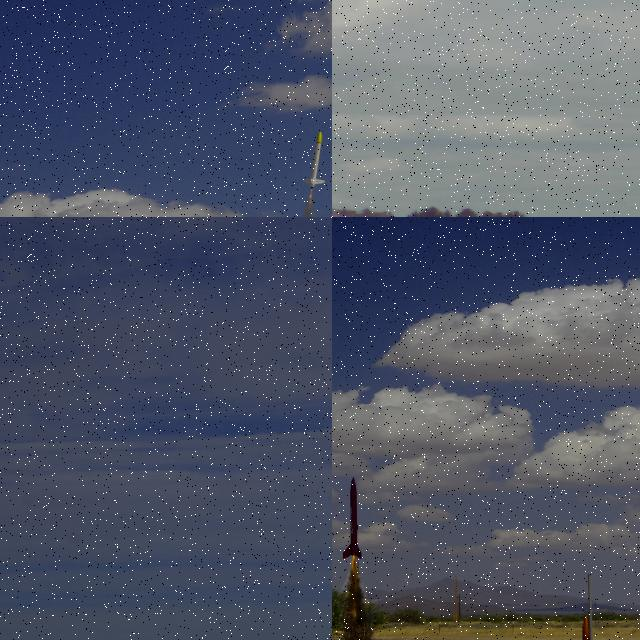Rocket: (343, 476, 362, 560), (302, 131, 326, 189), (577, 615, 604, 640)
